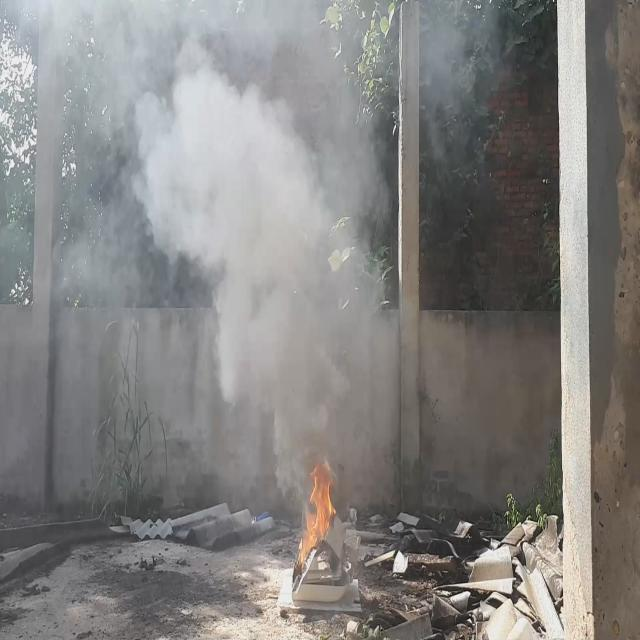Fire: (298, 463, 338, 562)
Smoke: (0, 0, 510, 511)
